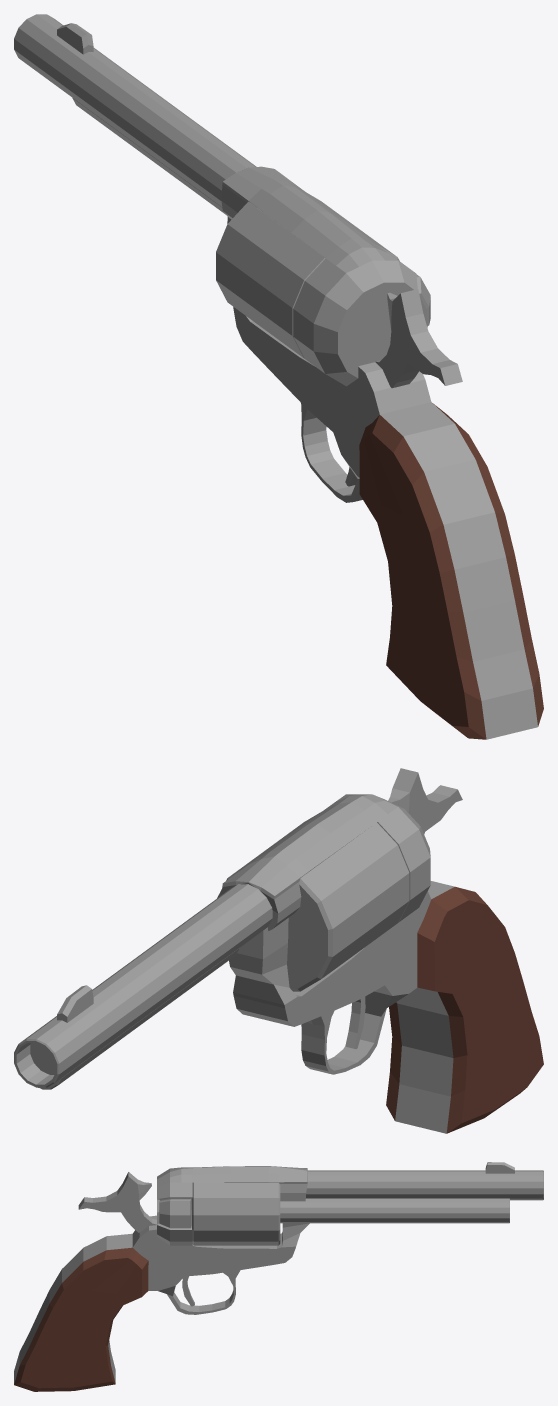
The model's file is Revolver.fbx.
3 views of the same model, one above another, from view 1: azimuth 30°, elevation 25°; view 2: azimuth 150°, elevation 25°; view 3: azimuth 270°, elevation 25° (orthographic). The views are drawn at different scales.
Visible parts, largest first — view 1: Frame1, Grip, Frame2, Barrel, Chamber, Trekker; view 2: Frame1, Grip, Barrel, Chamber, Frame2, Trekker, Bullet_Enjector, Sight; view 3: Grip, Frame1, Barrel, Bullet_Enjector, Chamber, Frame2, Trekker, Bullet_Door, Sight.
Boxes of the visible parts, left/top/right/bottom form: Frame1: left=227, top=217, right=537, bottom=739; Grip: left=359, top=403, right=543, bottom=739; Frame2: left=221, top=166, right=427, bottom=386; Barrel: left=14, top=14, right=256, bottom=206; Chamber: left=216, top=193, right=399, bottom=358; Trekker: left=375, top=289, right=462, bottom=388; Frame1: left=229, top=881, right=454, bottom=1133; Grip: left=386, top=886, right=543, bottom=1133; Barrel: left=14, top=884, right=272, bottom=1087; Chamber: left=217, top=810, right=409, bottom=991; Frame2: left=221, top=794, right=430, bottom=930; Trekker: left=388, top=768, right=462, bottom=834; Bullet_Enjector: left=40, top=948, right=239, bottom=1089; Sight: left=57, top=985, right=93, bottom=1022; Grip: left=14, top=1247, right=148, bottom=1391; Frame1: left=14, top=1215, right=309, bottom=1384; Barrel: left=306, top=1170, right=543, bottom=1200; Bullet_Enjector: left=280, top=1198, right=509, bottom=1223; Chamber: left=192, top=1182, right=280, bottom=1245; Frame2: left=157, top=1166, right=307, bottom=1245; Trekker: left=78, top=1172, right=156, bottom=1232; Bullet_Door: left=159, top=1199, right=191, bottom=1228; Sight: left=485, top=1162, right=514, bottom=1173.
Bounding box in the file's own units: 45.17 × 148 × 318.
Materials: 1 (1 with a texture image).
